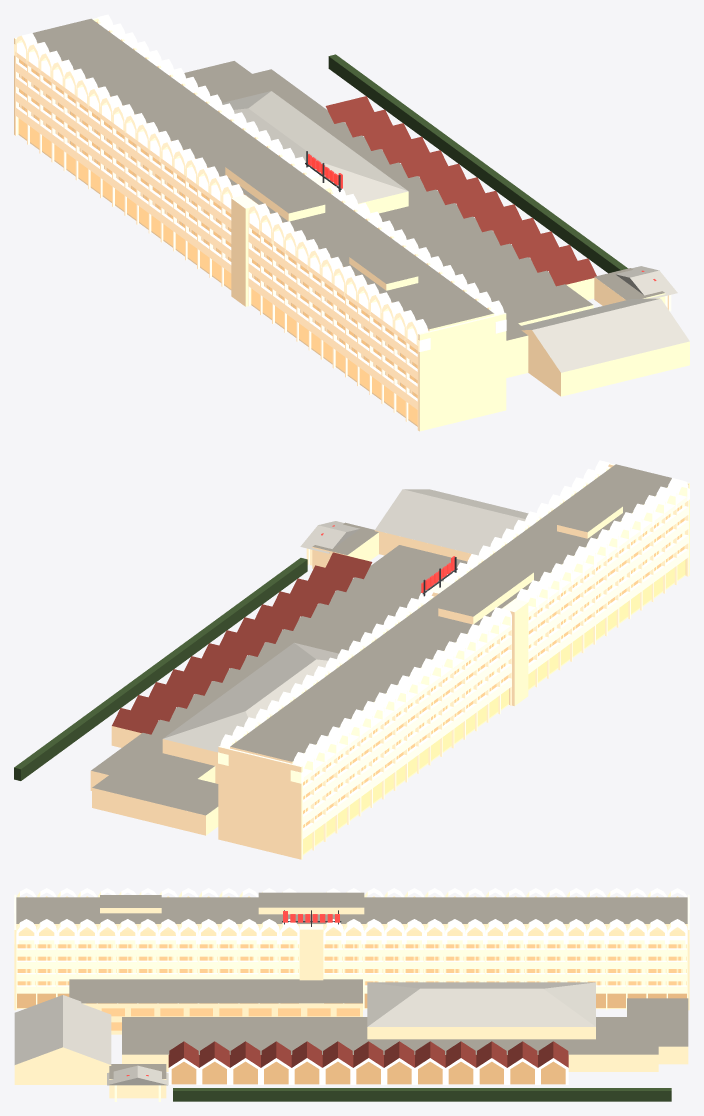
File: islamabad_marriott.glb
The picture shows the model from 3 angles, top to bottom: view 1: azimuth 30°, elevation 25°; view 2: azimuth 150°, elevation 25°; view 3: azimuth 270°, elevation 25°; orthographic projection. The views are drawn at different scales.
Parts seen in each view (by area): view 1: m_roof_flat, m_band_light, m_wall_cream, m_hood_white, m_hall_roof, m_pavilion_roof, m_hedge, m_ground_rear, m_window_dark; view 2: m_roof_flat, m_band_light, m_wall_cream, m_hood_white, m_hall_roof, m_pavilion_roof, m_hedge, m_ground_rear, m_window_dark; view 3: m_roof_flat, m_band_light, m_wall_cream, m_hall_roof, m_hood_white, m_ground_glass, m_window_dark, m_hedge, m_pavilion_roof, m_loggia_glass, m_sign_red.
Boxes of the visible parts, x1,y1,x2,y2 form: m_roof_flat: (32, 18, 664, 340); m_band_light: (15, 50, 671, 430); m_wall_cream: (14, 18, 689, 431); m_hood_white: (14, 14, 506, 351); m_hall_roof: (222, 91, 689, 372); m_pavilion_roof: (325, 96, 596, 286); m_hedge: (328, 54, 627, 273); m_ground_rear: (18, 118, 417, 425); m_window_dark: (19, 60, 417, 398); m_roof_flat: (91, 464, 671, 815); m_band_light: (302, 494, 688, 858); m_wall_cream: (90, 463, 689, 859); m_hood_white: (218, 460, 689, 783); m_hall_roof: (163, 489, 528, 752); m_pavilion_roof: (112, 552, 372, 734); m_hedge: (14, 558, 307, 780); m_ground_rear: (303, 559, 685, 853); m_window_dark: (303, 505, 684, 827); m_roof_flat: (16, 892, 688, 1078); m_band_light: (16, 936, 687, 1101); m_wall_cream: (14, 892, 689, 1098); m_hall_roof: (14, 982, 595, 1085); m_hood_white: (14, 888, 689, 1084); m_ground_glass: (17, 993, 686, 1084); m_window_dark: (18, 944, 680, 1030); m_hedge: (173, 1088, 671, 1101); m_pavilion_roof: (168, 1041, 568, 1067); m_loggia_glass: (19, 896, 684, 935); m_sign_red: (126, 911, 339, 1076).
Size of the model in its own units: 69.3 by 24.6 by 154.
